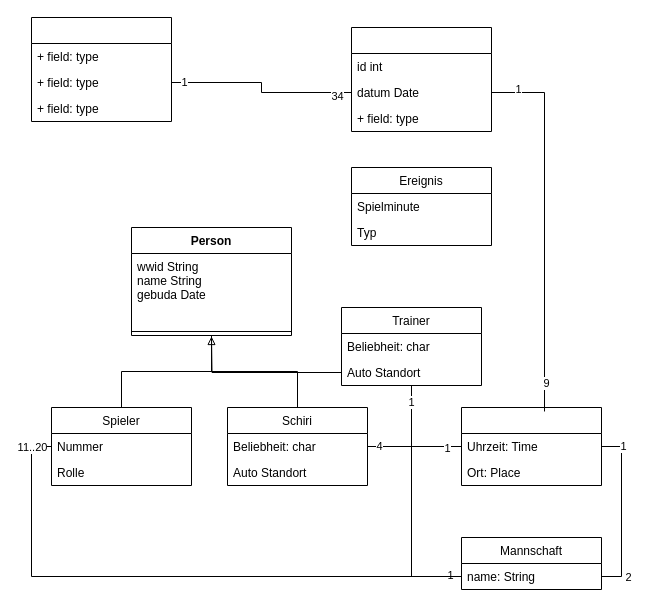
Some shapes in this 648 by 610 pixel diagram are drawn without their labels. The box of each missing label's shape, as (x1, y1, x2, y2) in pixels:
Saison: (30, 16, 172, 122)
Spiel: (460, 406, 602, 486)
Spieltage: (350, 26, 492, 132)
